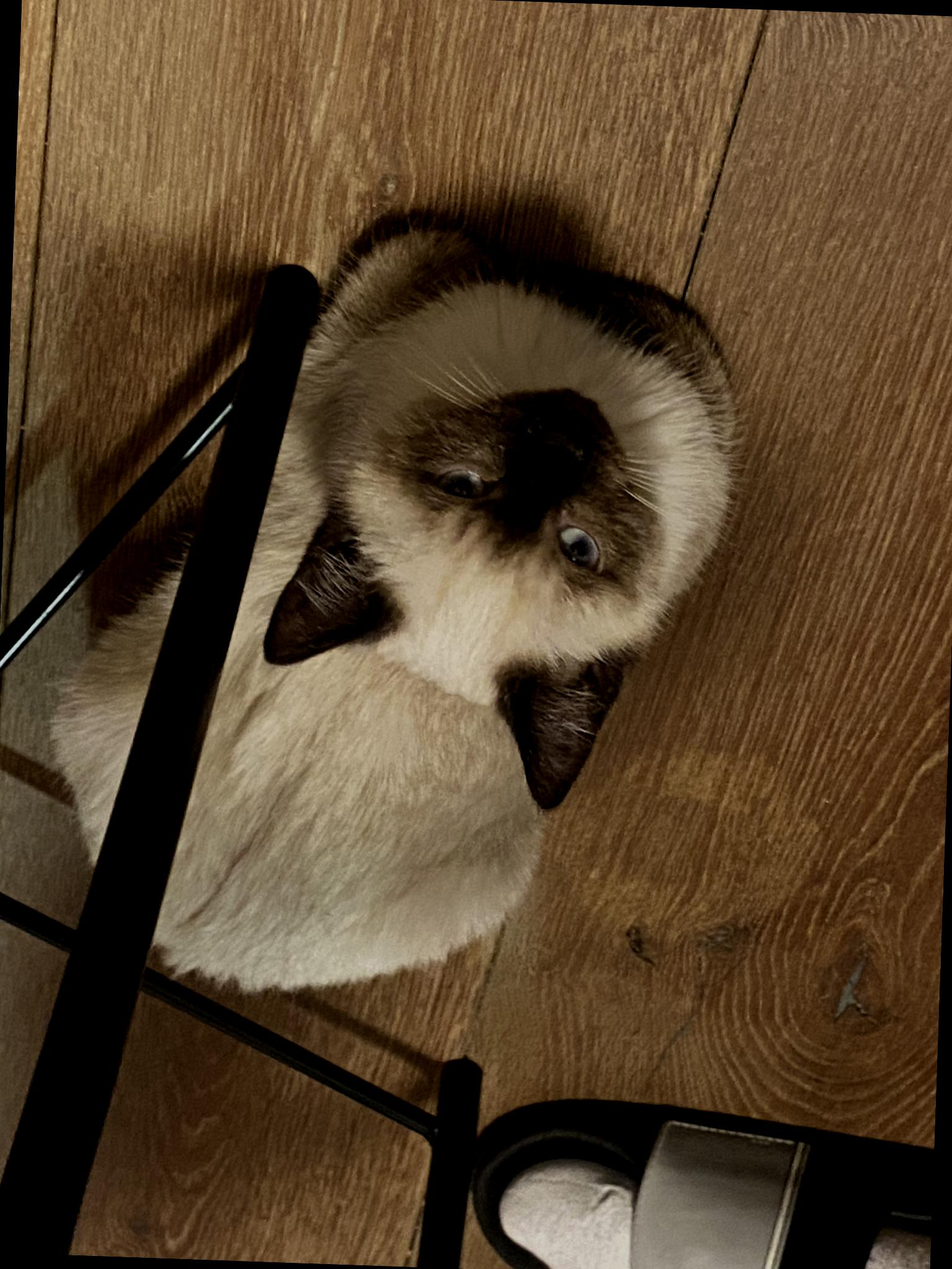macka: (39, 202, 746, 1012)
